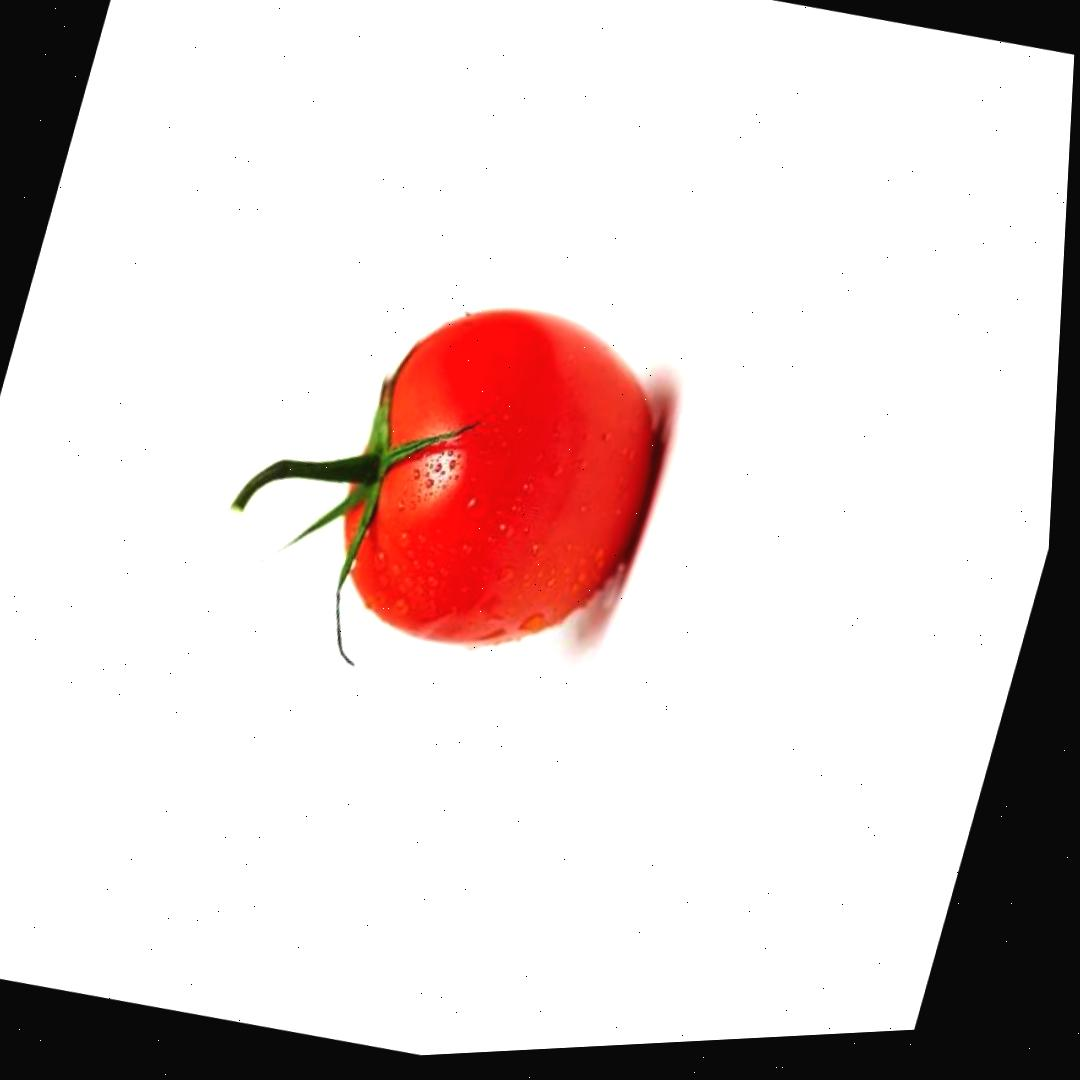matang: (313, 276, 693, 686)
